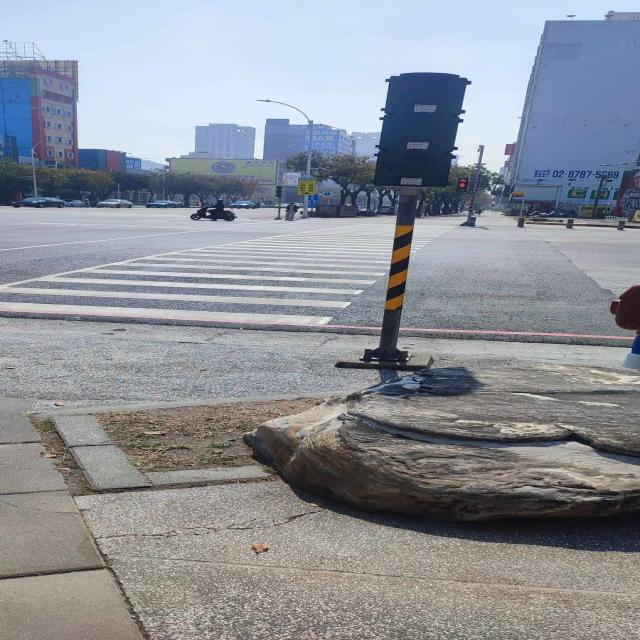zebra_crossing: (188, 140, 639, 368), (357, 82, 360, 367)
